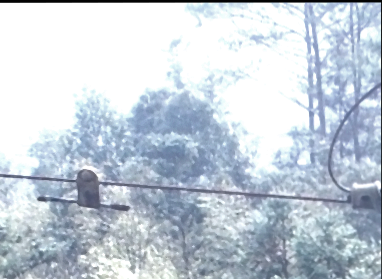damper_defect: (35, 163, 135, 212)
